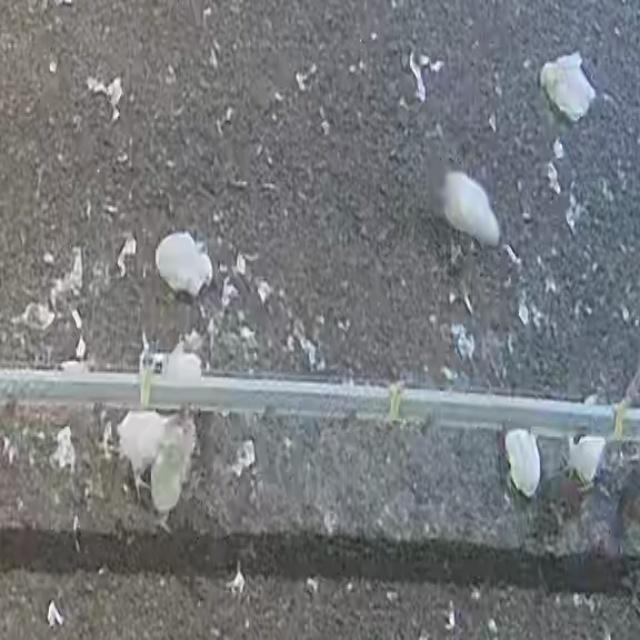chicken: (150, 342, 206, 430), (440, 170, 501, 248), (148, 419, 193, 513), (540, 53, 598, 124), (564, 396, 608, 488), (154, 232, 212, 300), (116, 410, 169, 481), (504, 429, 542, 498)
